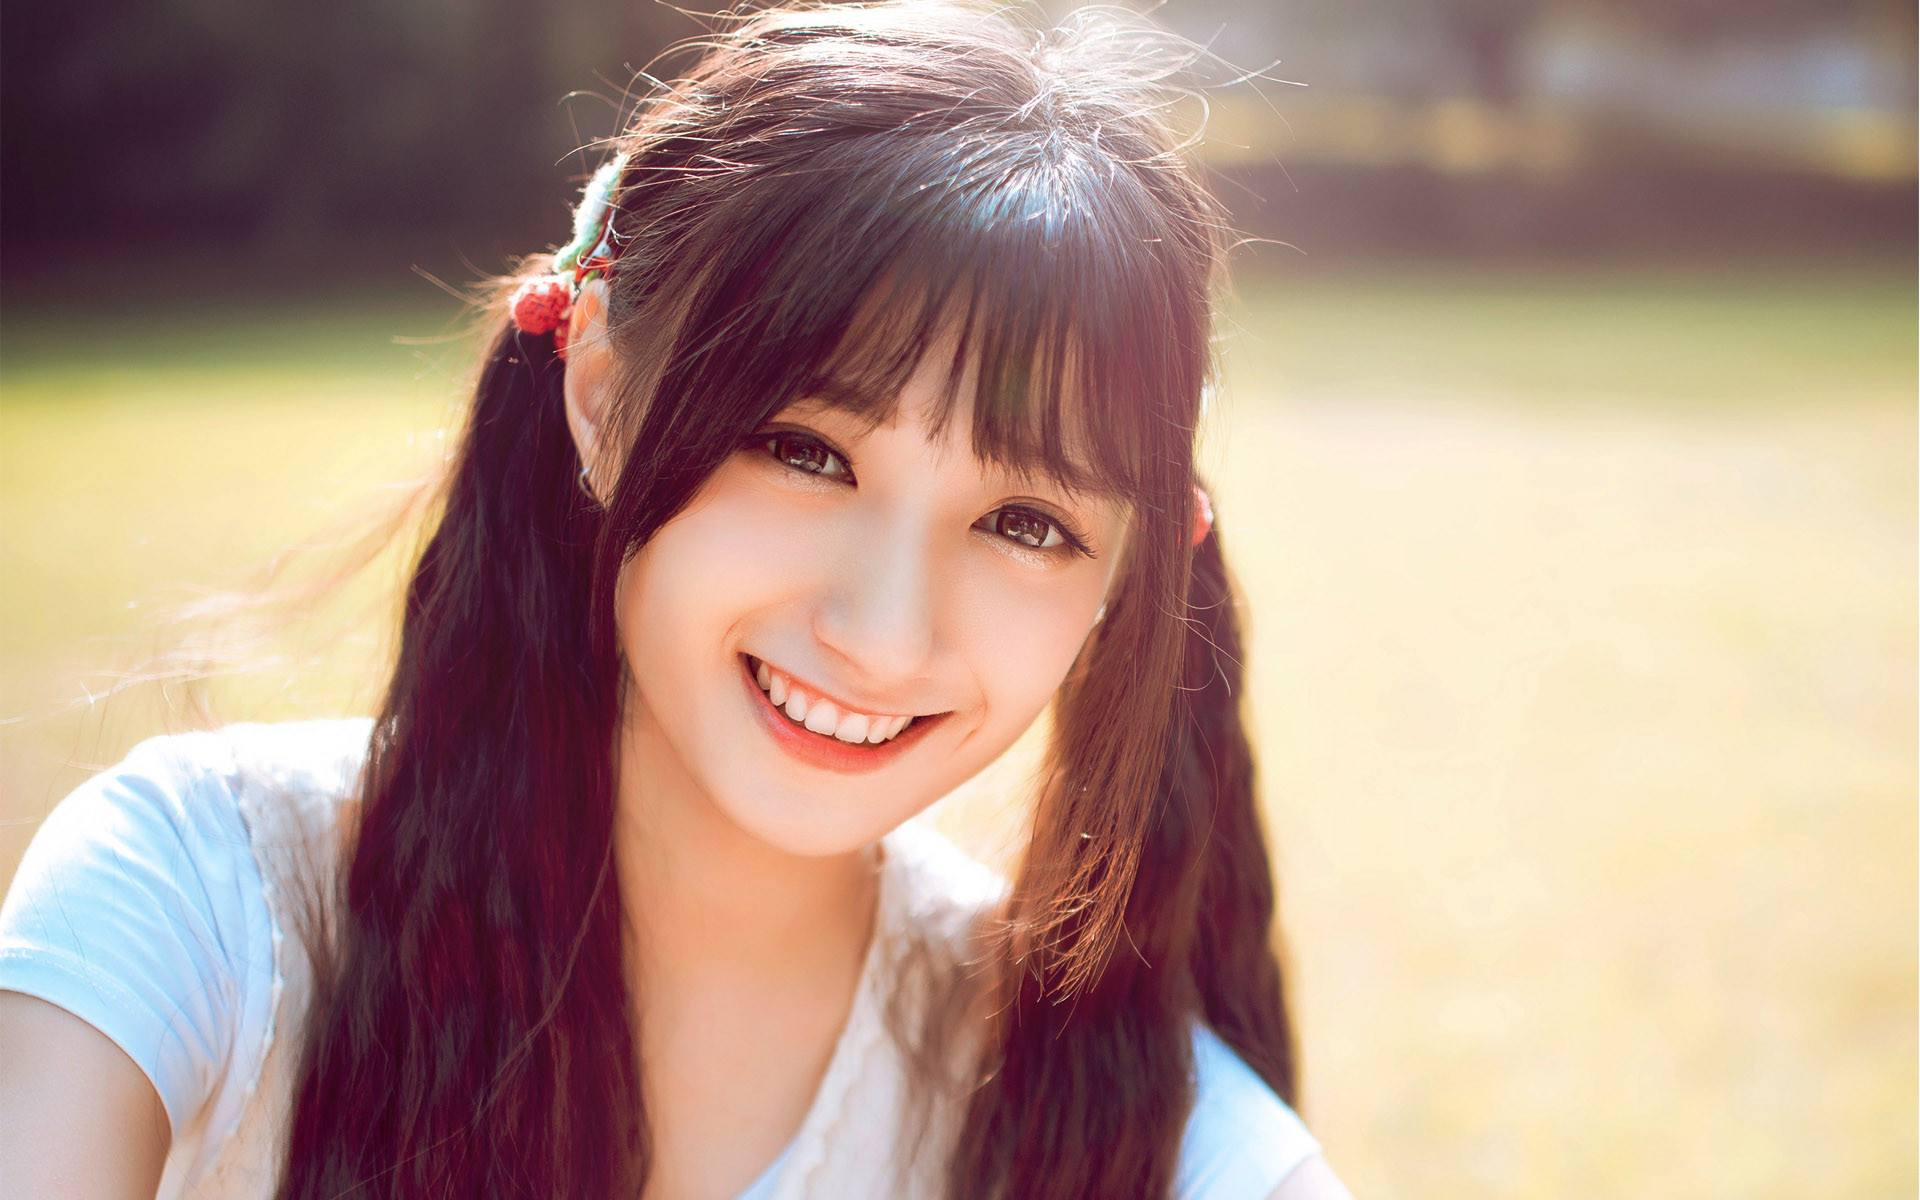person: (291, 51, 1473, 1200)
